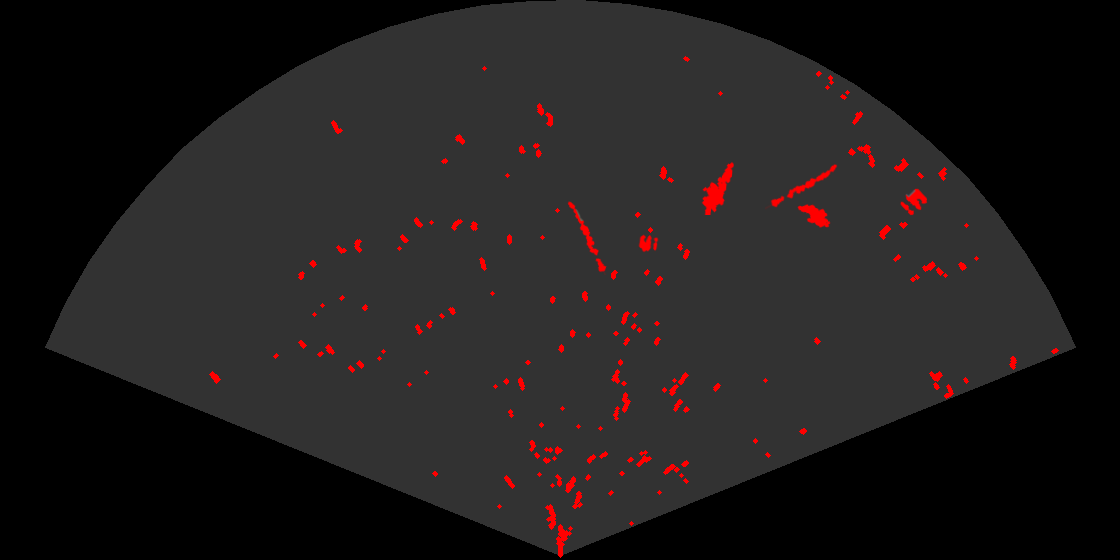AUV: (796, 203, 832, 229)
ball: (899, 187, 929, 217), (637, 233, 660, 254)
chain: (765, 163, 839, 211), (566, 200, 608, 275)
frogman: (700, 160, 735, 215)
